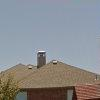Chimney: (29, 43, 62, 73)
